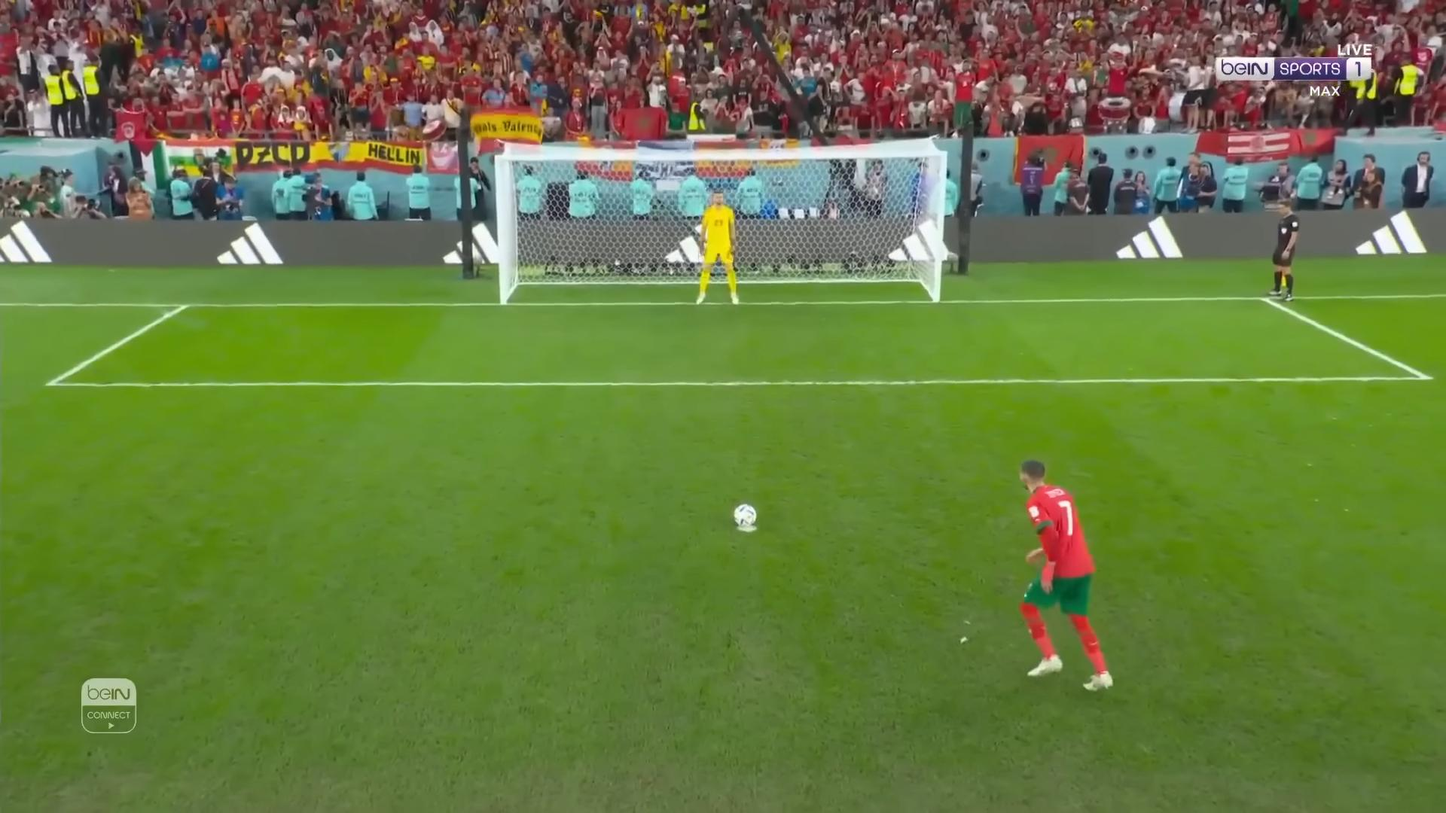Goalkeeper: (695, 189, 740, 305)
Player: (1020, 460, 1113, 692)
ball: (734, 502, 757, 532)
referee: (1268, 198, 1299, 298)
